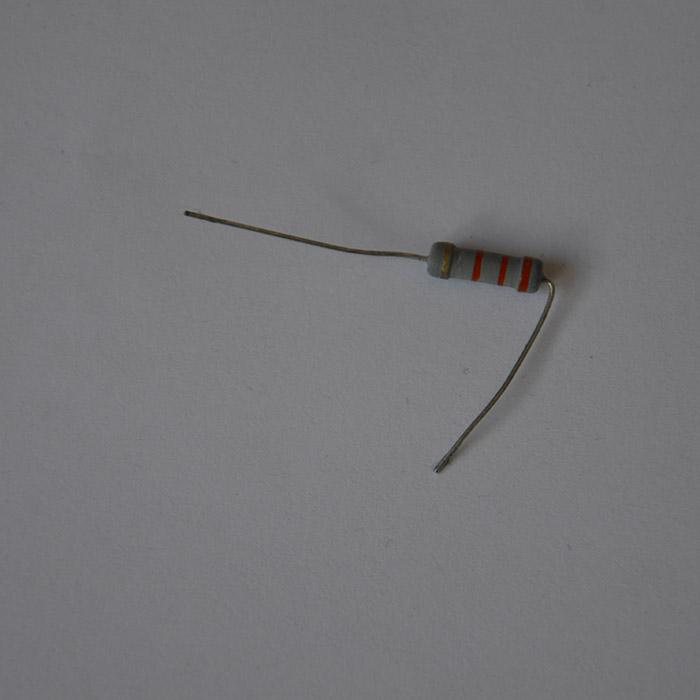resistor: (428, 240, 545, 292)
